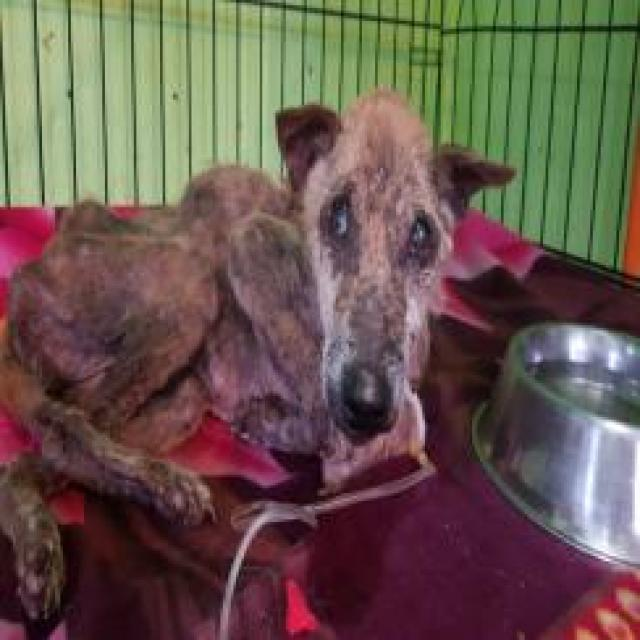fungal infection: (134, 457, 218, 519), (56, 240, 134, 306), (12, 502, 60, 602), (322, 178, 362, 264), (204, 169, 270, 217), (366, 138, 399, 208), (393, 237, 443, 279)
